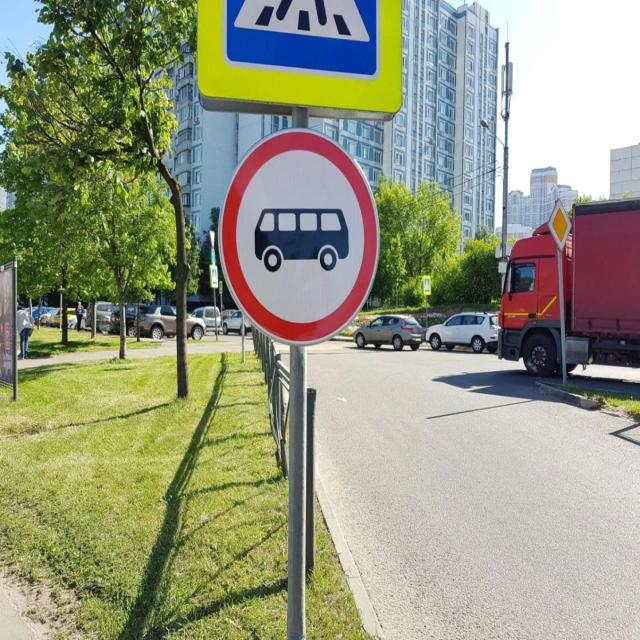Traffic sign: (220, 125, 376, 352), (193, 0, 411, 118), (549, 197, 574, 259)
